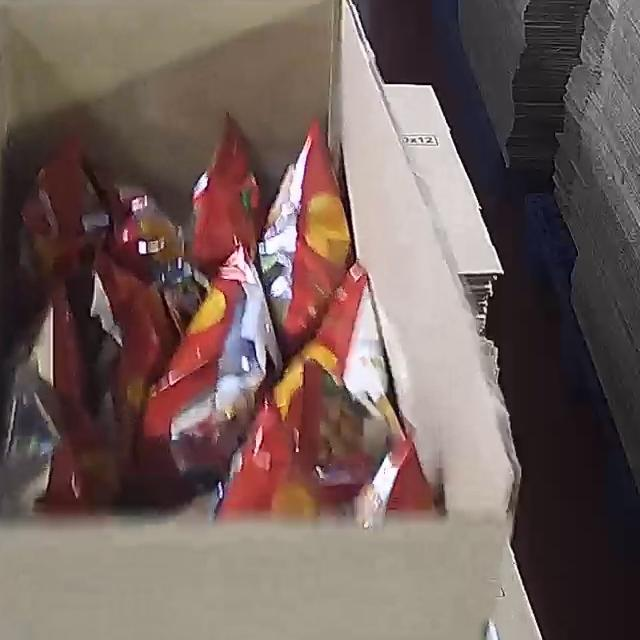masala: (0, 109, 403, 521)
